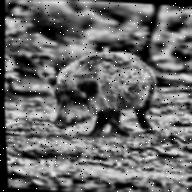boar: (38, 44, 168, 136)
